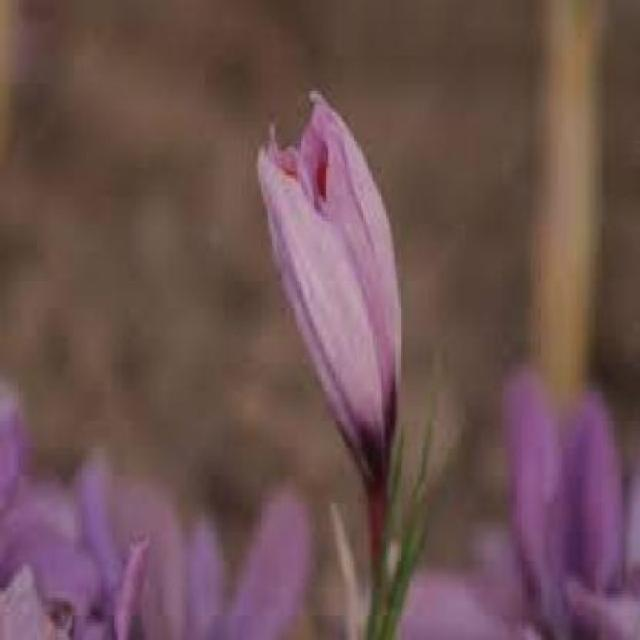saffron open: (257, 98, 401, 636)
